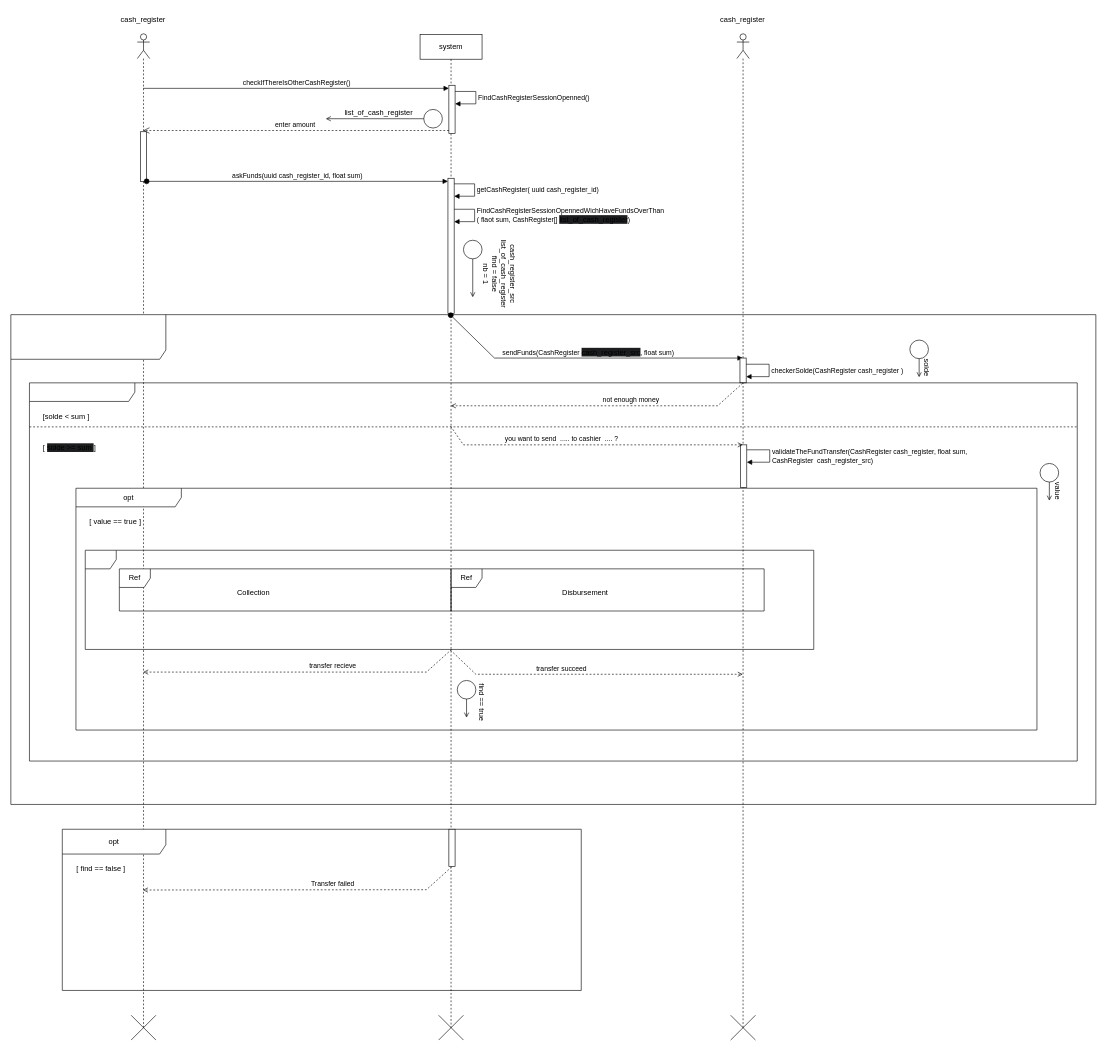
The diagram is 1107 pixels wide and 1051 high, and some of its shapes have lost their labels. Each missing label, with the box of its shape:
alt: (29, 382, 1077, 761)
loop nb <= lenght( list_of_cash_register) or find = flase: (10, 314, 1096, 804)
par: (85, 550, 814, 649)
